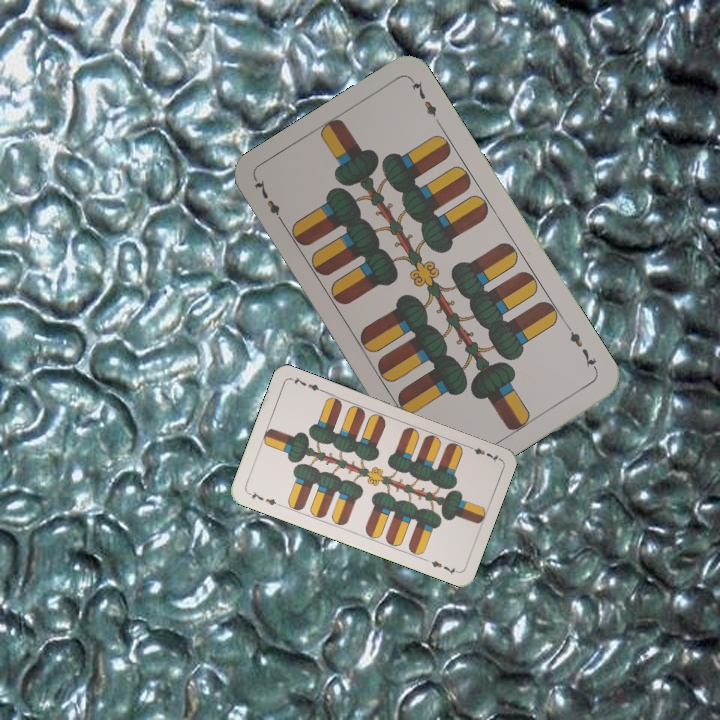E7: (250, 175, 288, 228), (563, 321, 600, 374), (463, 442, 502, 464), (244, 487, 283, 508)
